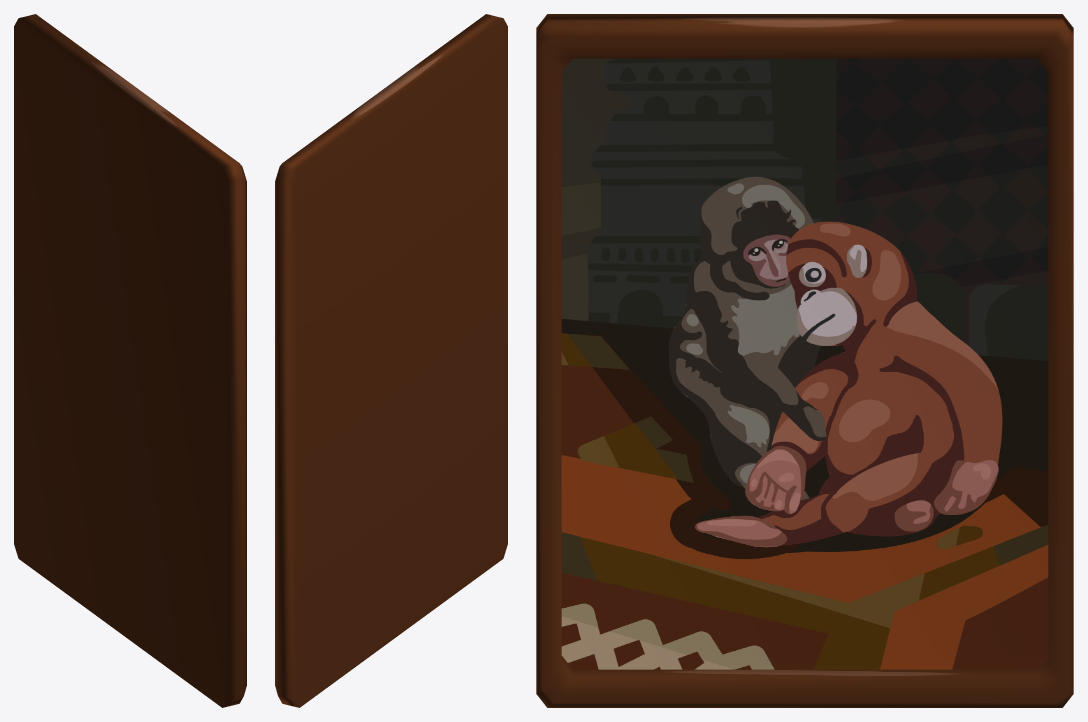
File: Painting.glb
The picture shows the model from 3 angles, left to right: view 1: azimuth 30°, elevation 25°; view 2: azimuth 150°, elevation 25°; view 3: azimuth 270°, elevation 25°; orthographic projection. The views are drawn at different scales.
Parts seen in each view (by area): view 1: Cube; view 2: Cube; view 3: Cube.
Boxes of the visible parts, bbox=[...] form: Cube: bbox=[14, 14, 246, 707]; Cube: bbox=[275, 14, 507, 707]; Cube: bbox=[536, 14, 1073, 707].
Size of the model in its own units: 0.0661 by 1.5 by 1.07.
1 material, 1 textured.
